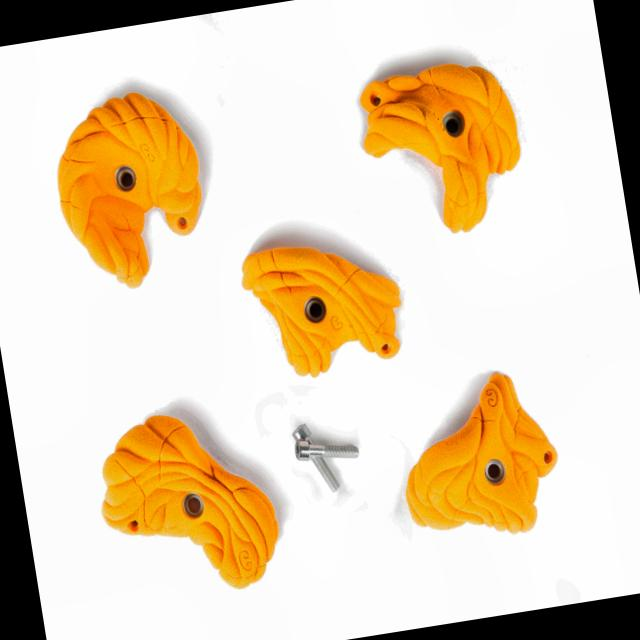Hold: (86, 394, 289, 608), (386, 356, 569, 560), (39, 86, 216, 289), (353, 58, 531, 244), (240, 225, 404, 380)
